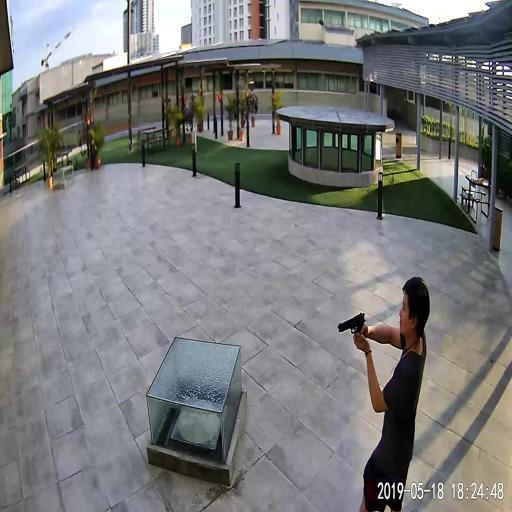Handgun: (336, 311, 364, 345)
